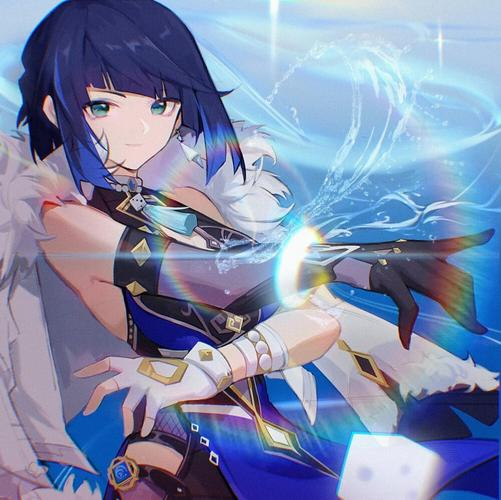夜兰: (19, 3, 495, 500)
